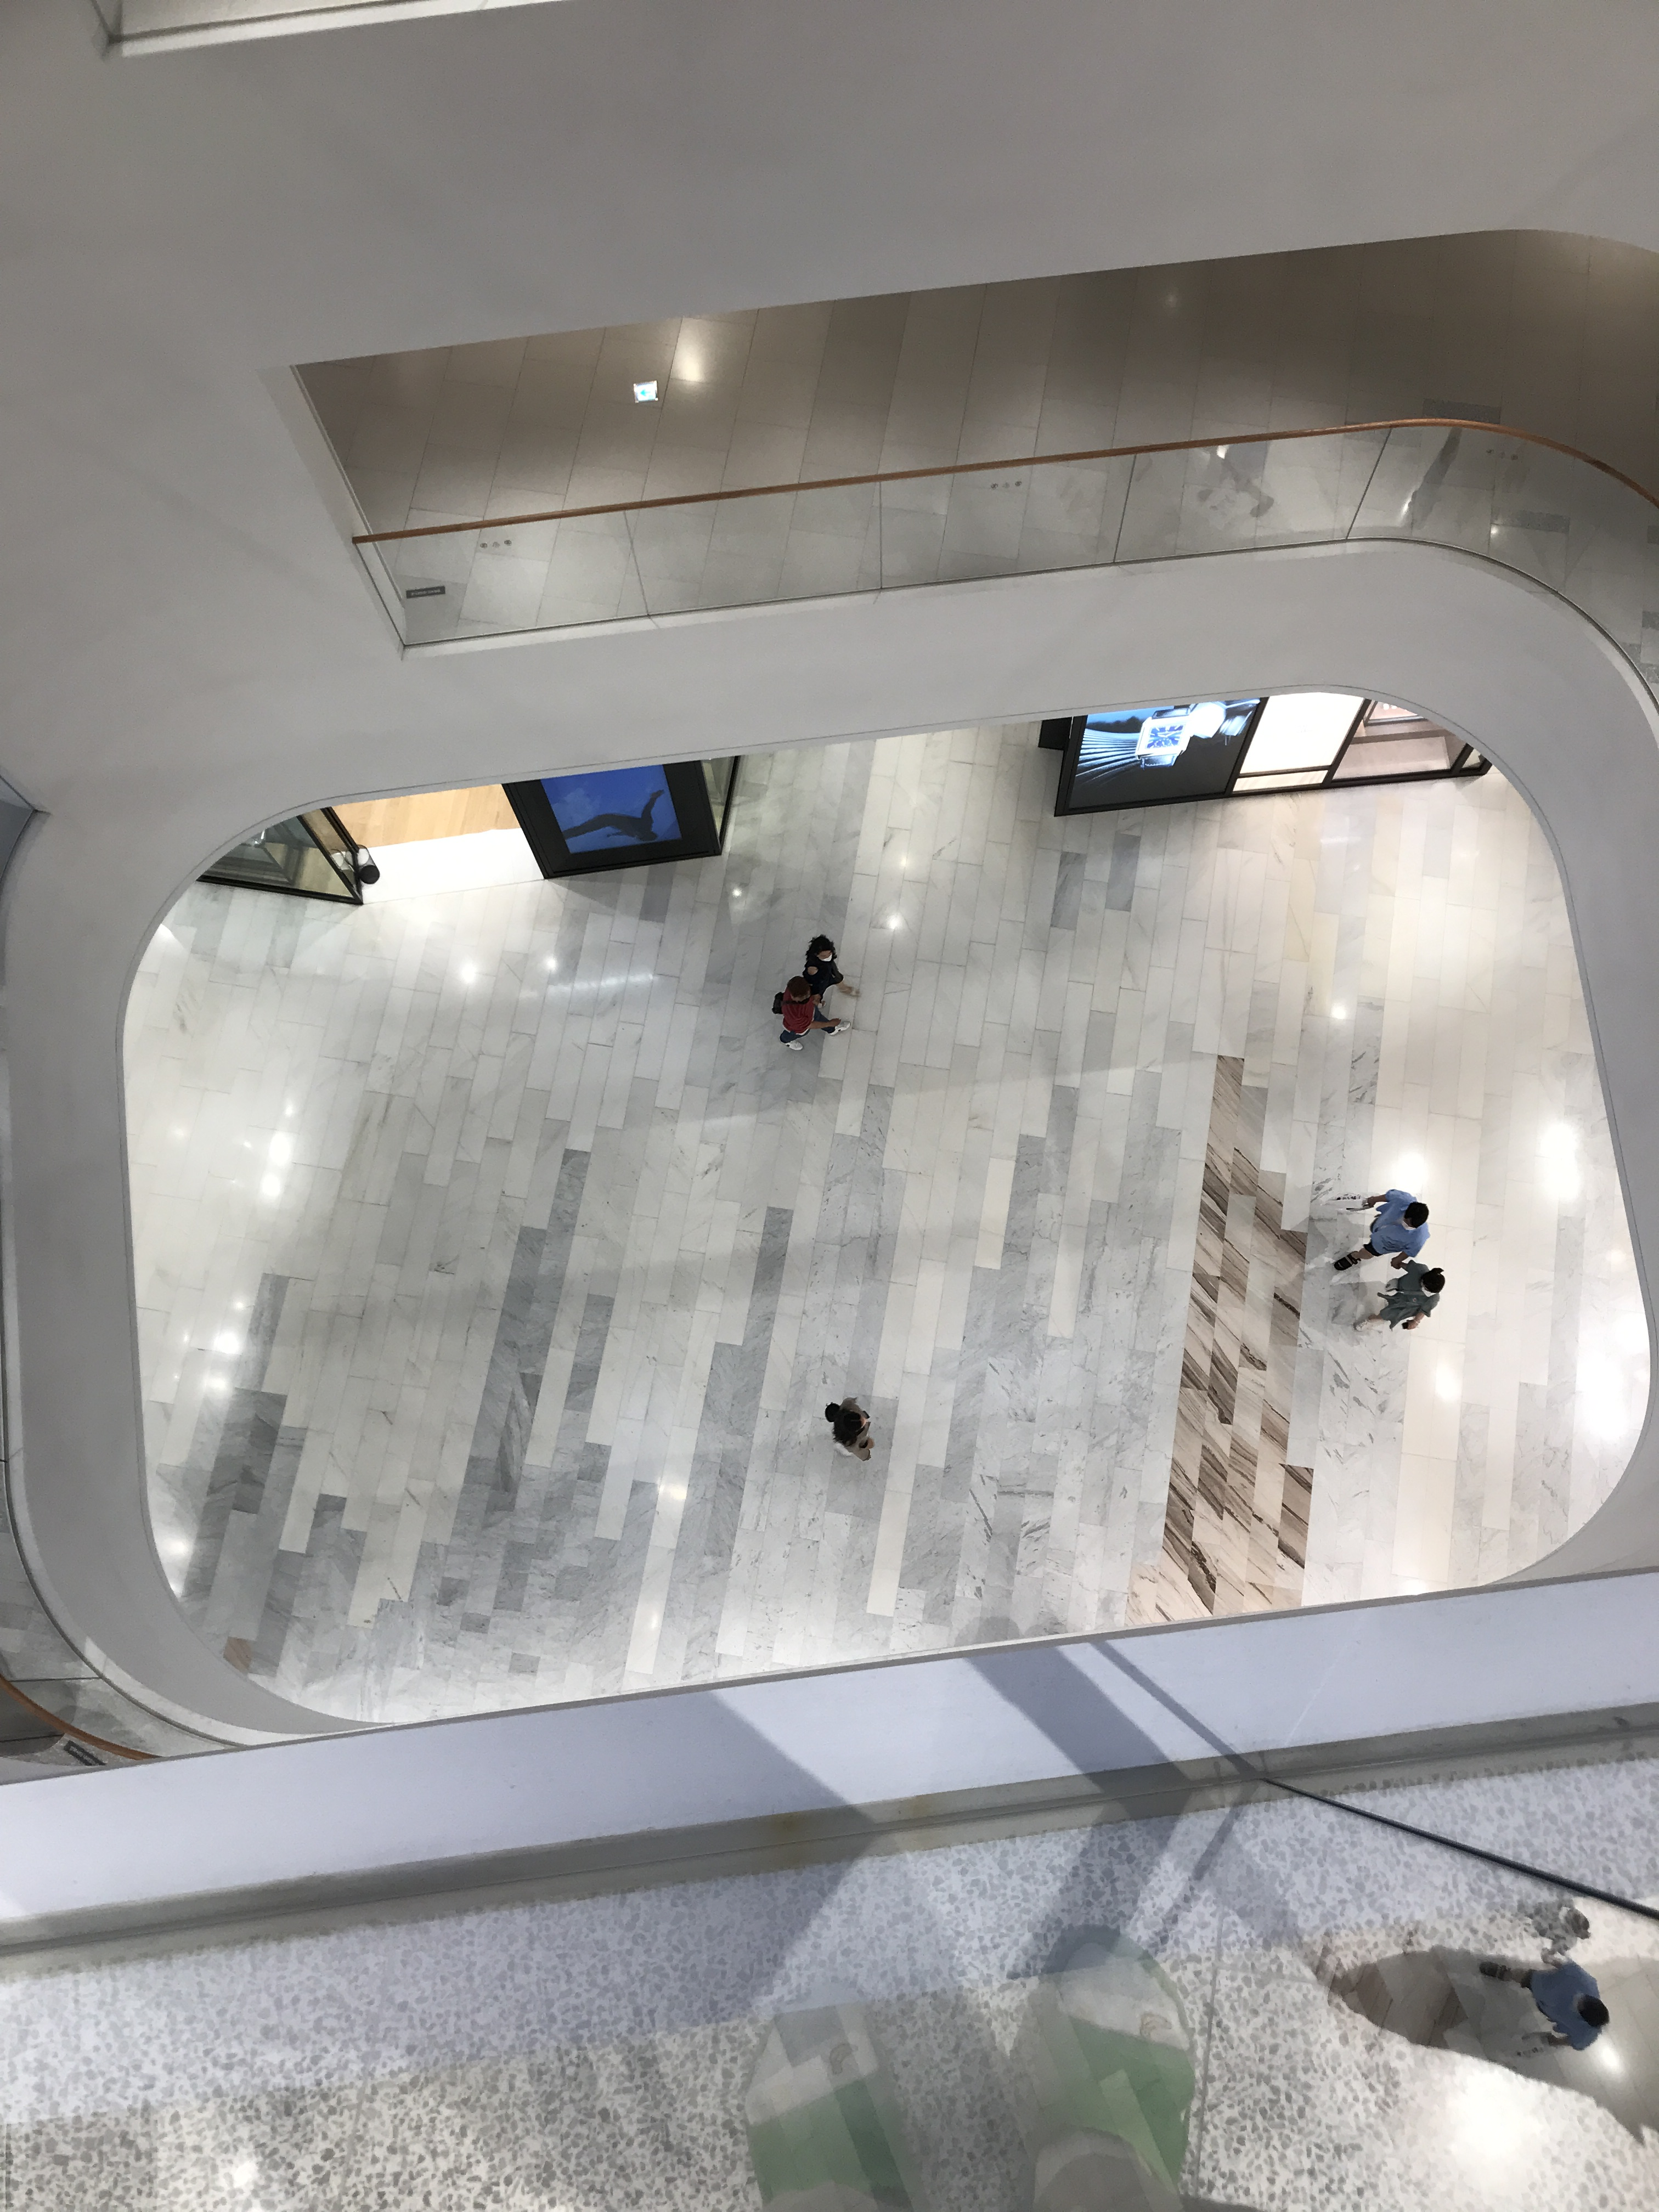person: (1327, 1187, 1430, 1274), (770, 979, 853, 1058), (1356, 1268, 1444, 1334), (803, 935, 859, 1003), (830, 1395, 875, 1469)
